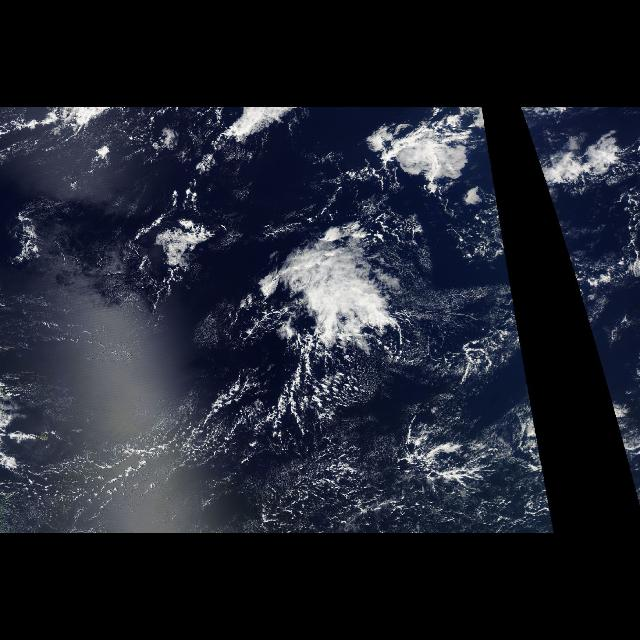Fish: (188, 183, 470, 437)
Flower: (154, 118, 526, 368), (524, 118, 628, 368)
Gravel: (37, 392, 556, 534), (622, 450, 640, 506)
